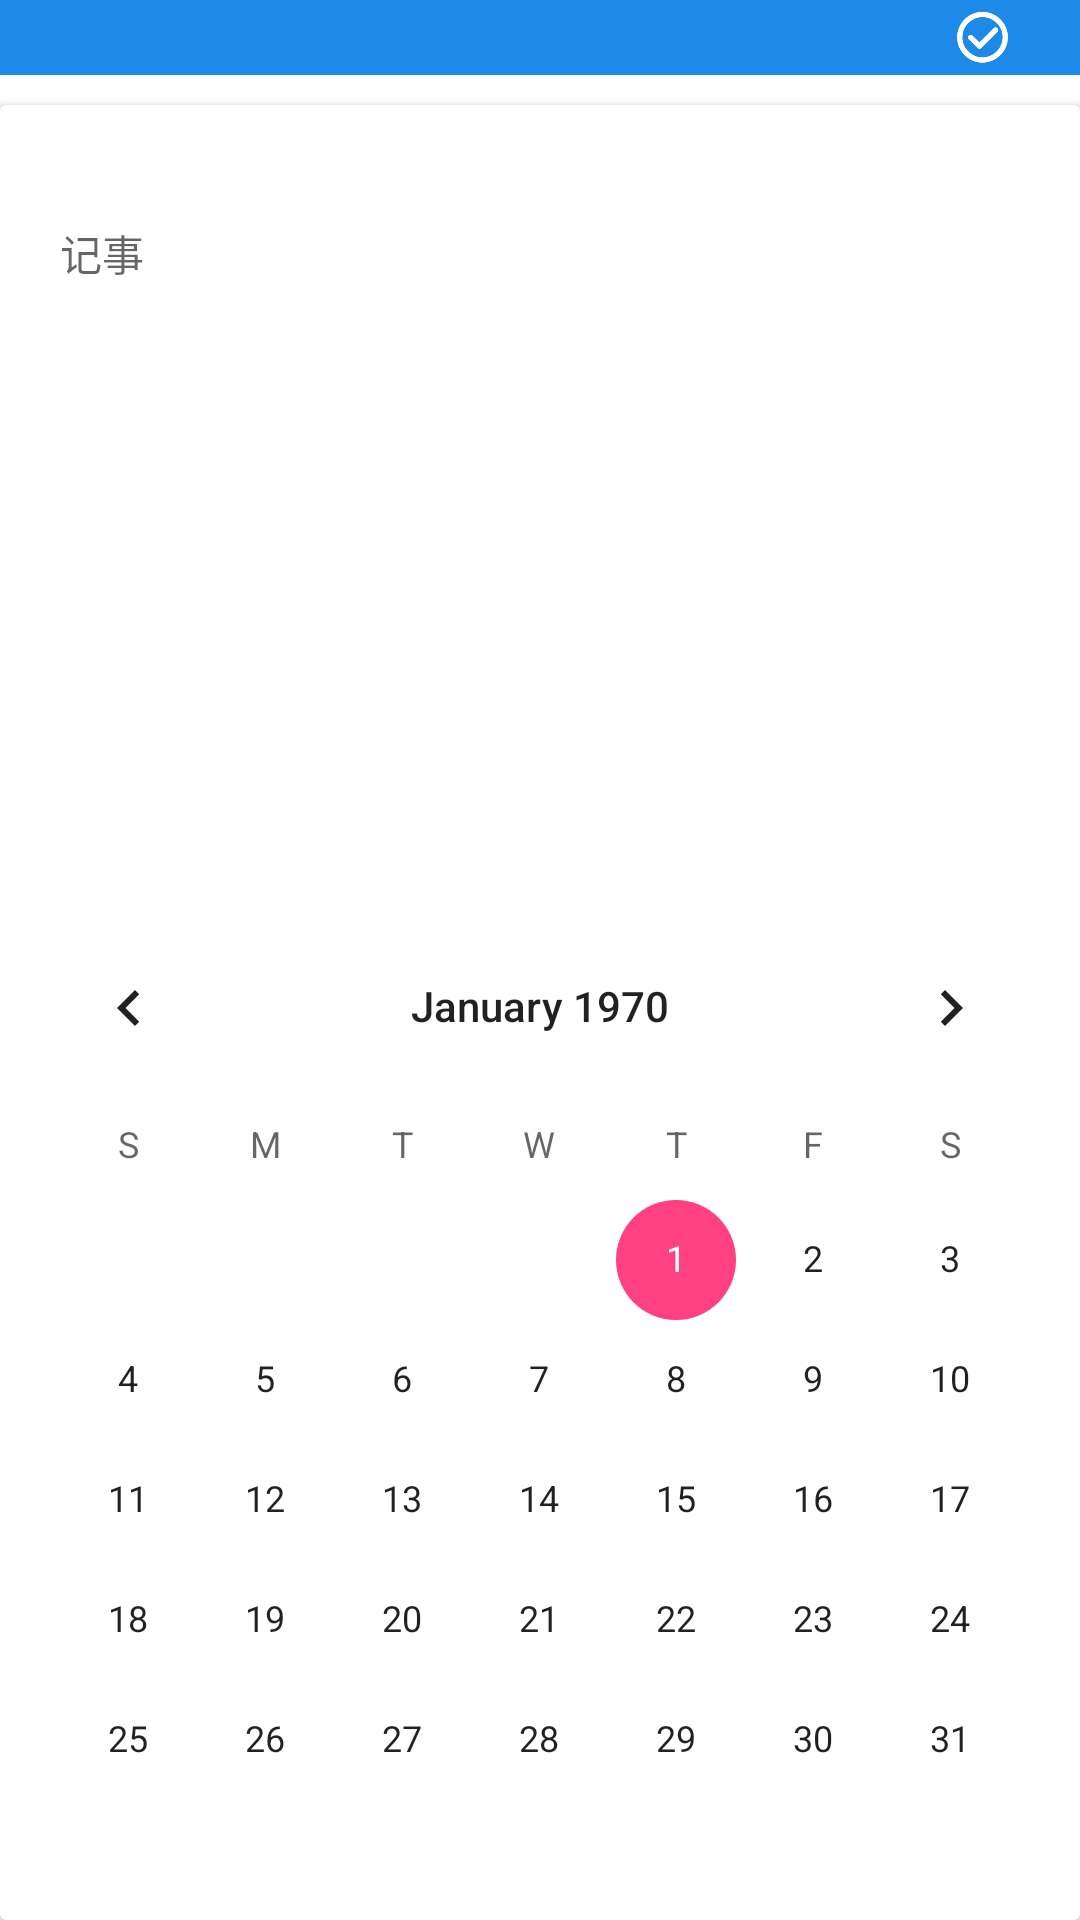

Named icons in this screenshot (1080*1920) and their bounding boxes, {"x1": x1, "y1": y1, "x2": x2, "y2": y2}:
savewhite: {"x1": 957, "y1": 12, "x2": 1008, "y2": 63}
